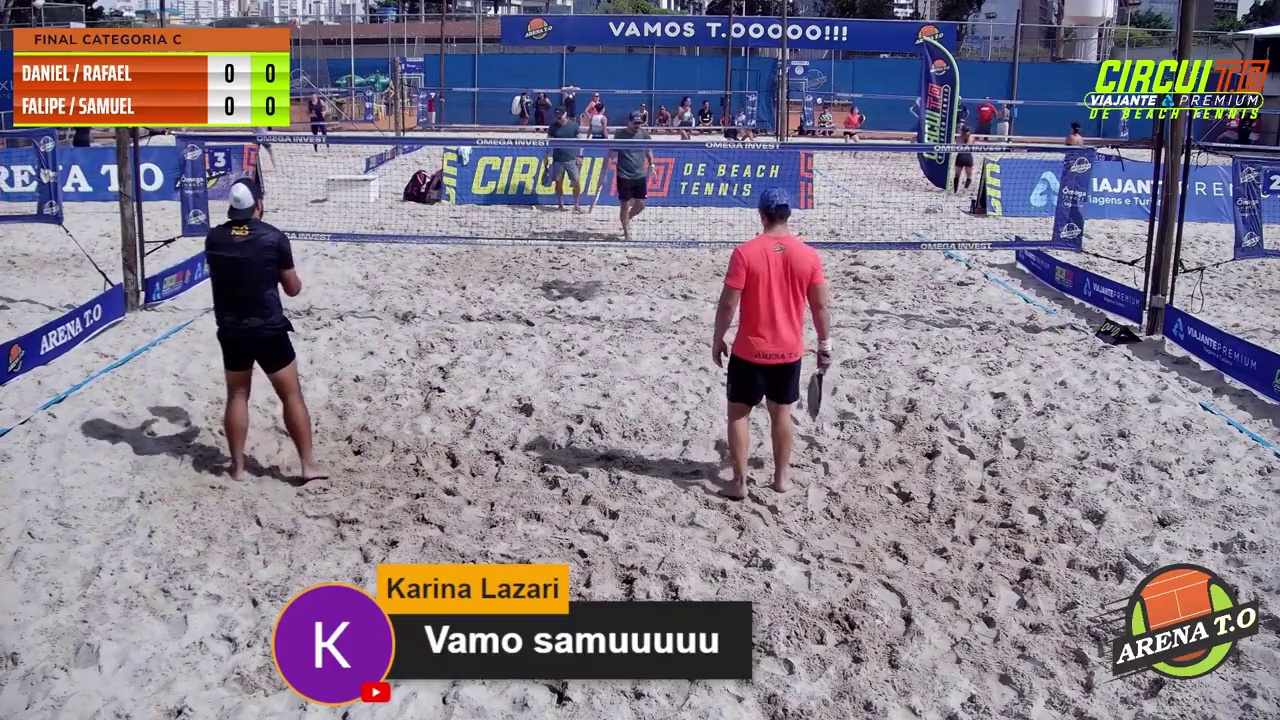court_line: (640, 0, 781, 435)
